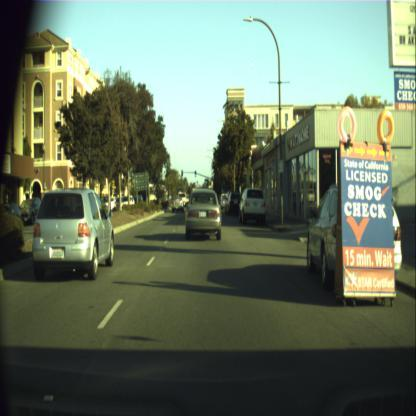Green: (194, 171, 196, 176)
RedLeft: (180, 170, 182, 176)
